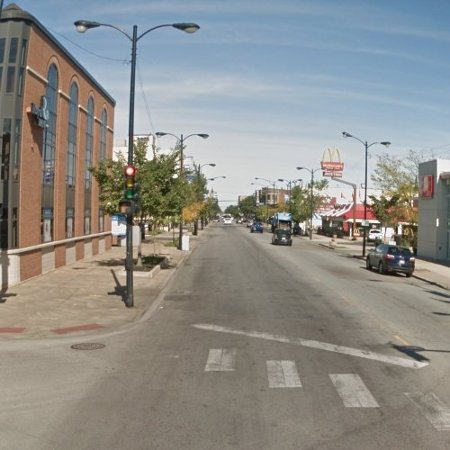公車: (35, 134, 450, 405)
